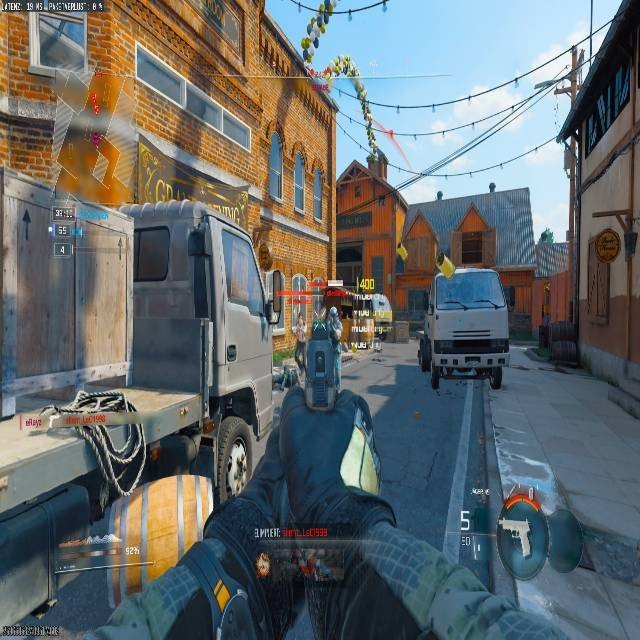head: (329, 306, 336, 314)
player: (326, 306, 342, 351)
